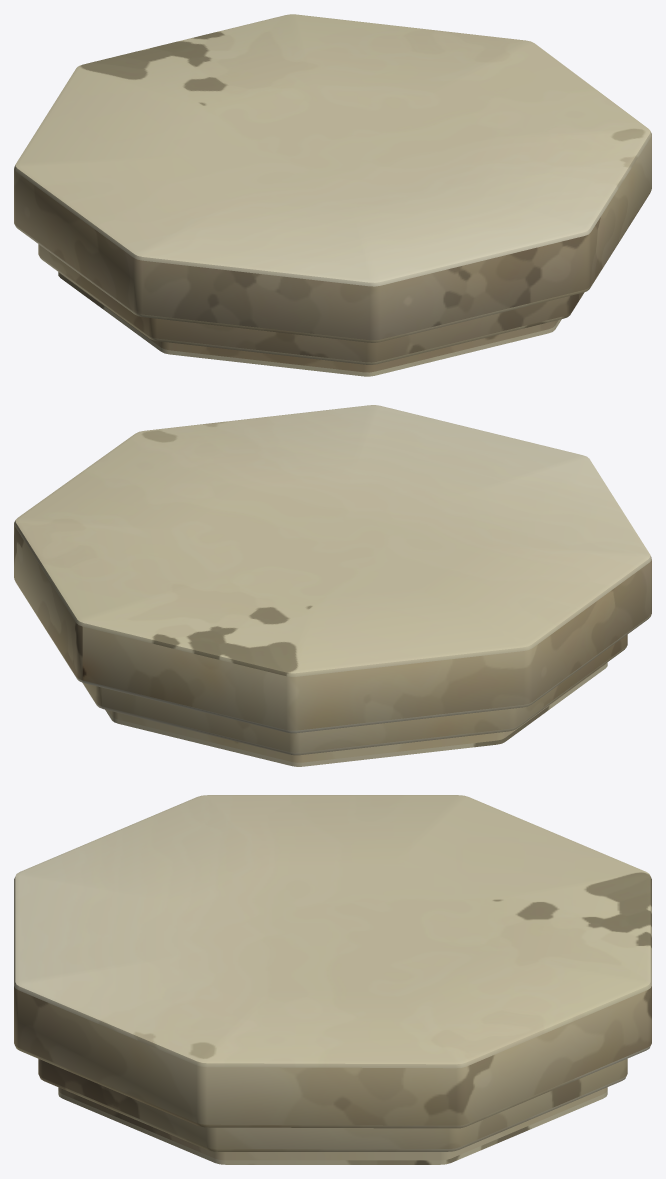
Rendered from Building_Fringe_1.FBX.
3 views of the same model, one above another, from view 1: azimuth 30°, elevation 25°; view 2: azimuth 150°, elevation 25°; view 3: azimuth 270°, elevation 25° (orthographic). The views are drawn at different scales.
Parts seen in each view (by area): view 1: Box048; view 2: Box048; view 3: Box048.
Part boxes in pixels (left/top/right/bottom): Box048: left=14, top=14, right=651, bottom=376; Box048: left=14, top=405, right=651, bottom=766; Box048: left=14, top=795, right=651, bottom=1164.
Bounding box in the file's own units: 323 × 67.21 × 322.
